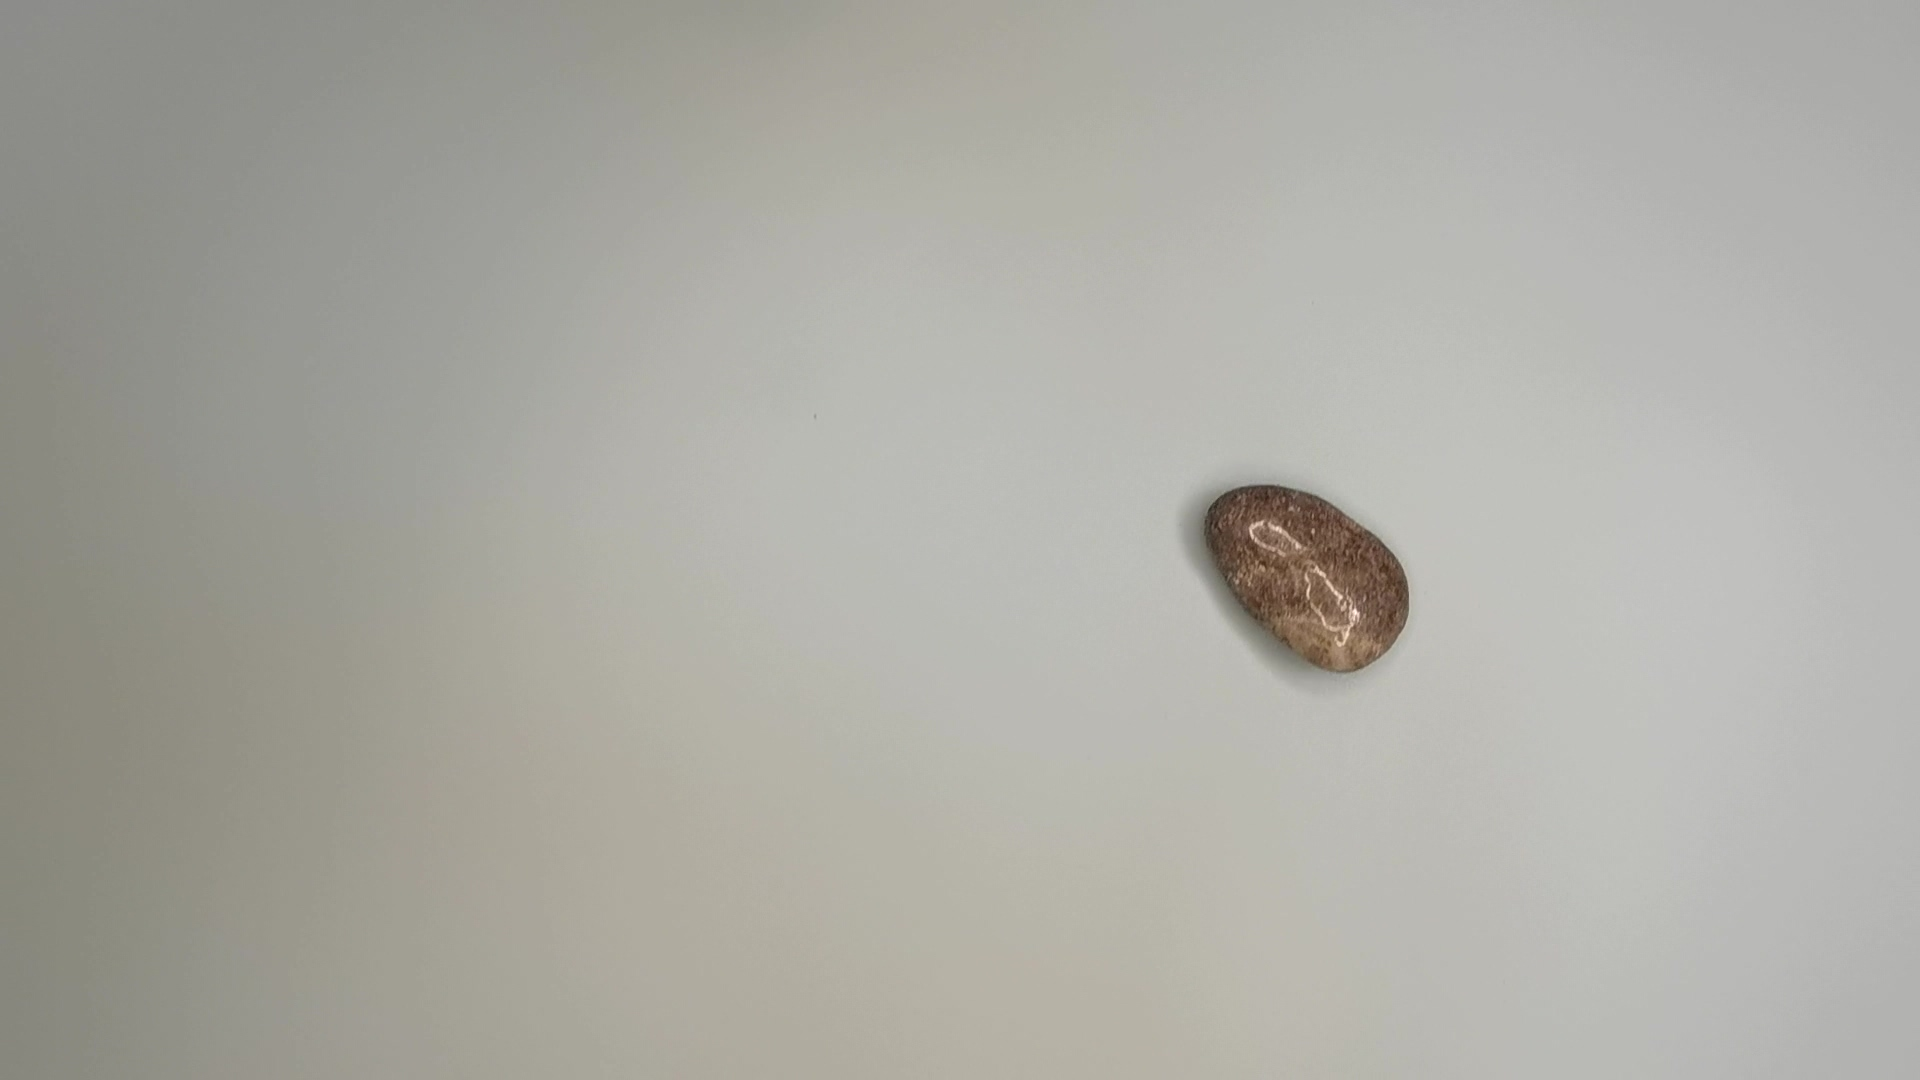ceramic: (1199, 480, 1415, 684)
